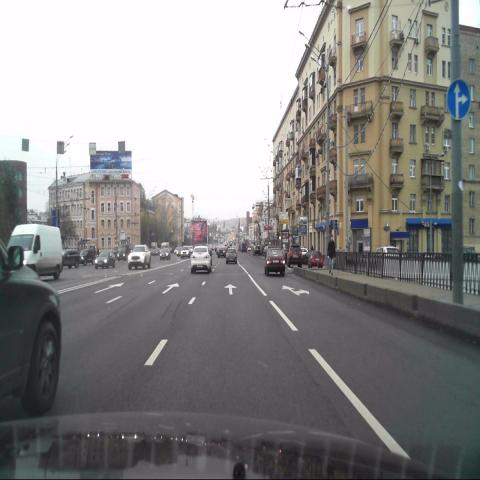4_1_4: (446, 77, 471, 121)
